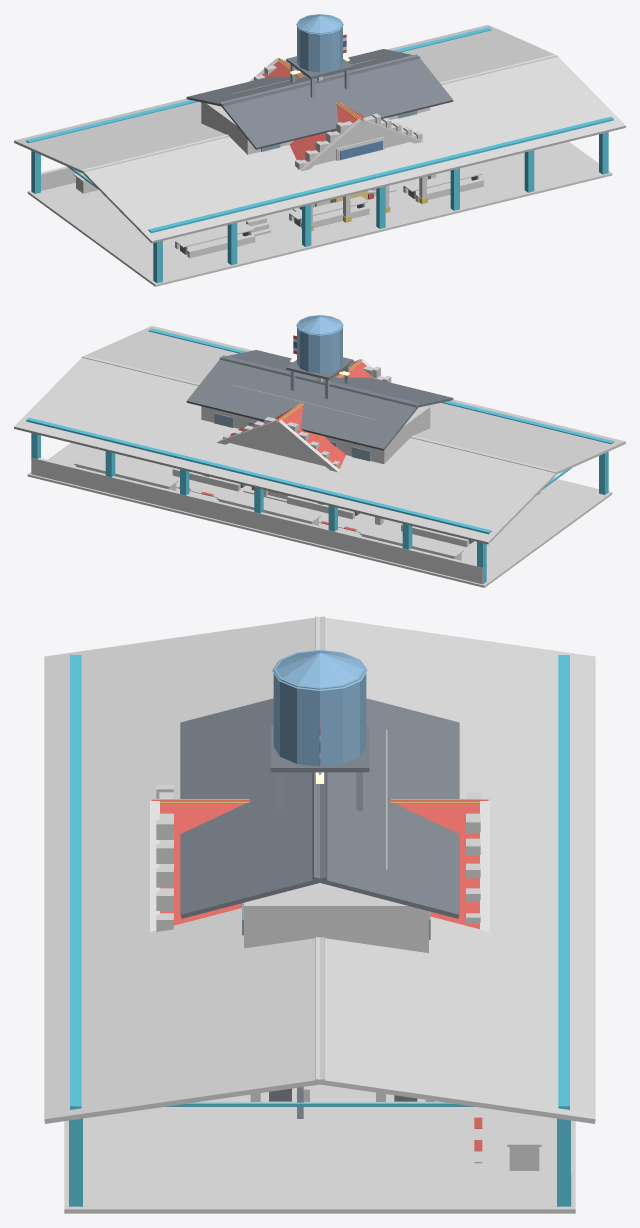
Rendered from samnak_kit.glb.
3 renders of one model, top to bottom at view 1: azimuth 30°, elevation 25°; view 2: azimuth 150°, elevation 25°; view 3: azimuth 270°, elevation 25°, orthographic. The views are drawn at different scales.
Parts seen in each view (by area): view 1: sk_canteen, sk_wooden_stilts, sk_vihara_front, sk_water_tank; view 2: sk_canteen, sk_wooden_stilts, sk_vihara_front, sk_water_tank; view 3: sk_canteen, sk_wooden_stilts, sk_water_tank, sk_vihara_front.
Part boxes in pixels (box(x1,y1,x2,y2)): sk_canteen: box(14, 25, 625, 286); sk_wooden_stilts: box(186, 49, 453, 236); sk_vihara_front: box(249, 58, 427, 230); sk_water_tank: box(286, 14, 353, 98); sk_canteen: box(14, 326, 625, 587); sk_wooden_stilts: box(186, 350, 453, 525); sk_vihara_front: box(217, 359, 391, 472); sk_water_tank: box(286, 315, 353, 399); sk_canteen: box(44, 616, 595, 1213); sk_wooden_stilts: box(180, 698, 459, 952); sk_water_tank: box(270, 650, 369, 811); sk_vihara_front: box(150, 785, 489, 932).
Size of the model in its own units: 33.2 by 11.42 by 16.72.
